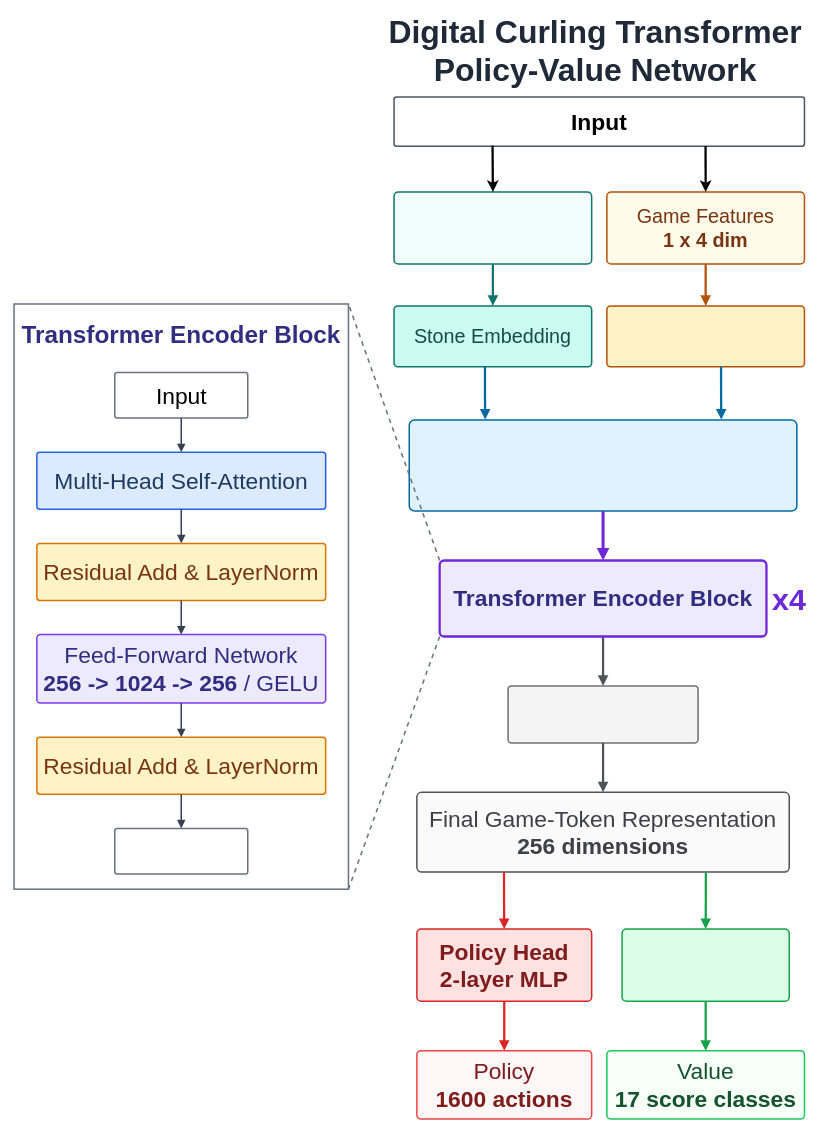
Image size: 825x1133. Some labels were removed from this diagram. Here are the shapes that lost their labels. From the top down, the centre of each, then its label:
pixel 492 227: Stone Features 16 x 5 dim
pixel 705 336: Game Embedding
pixel 602 465: Token Sequence 17 x 256 Type Embedding / Padding Mask
pixel 602 714: Final LayerNorm
pixel 181 850: Output
pixel 705 965: Value Head 2-layer MLP
